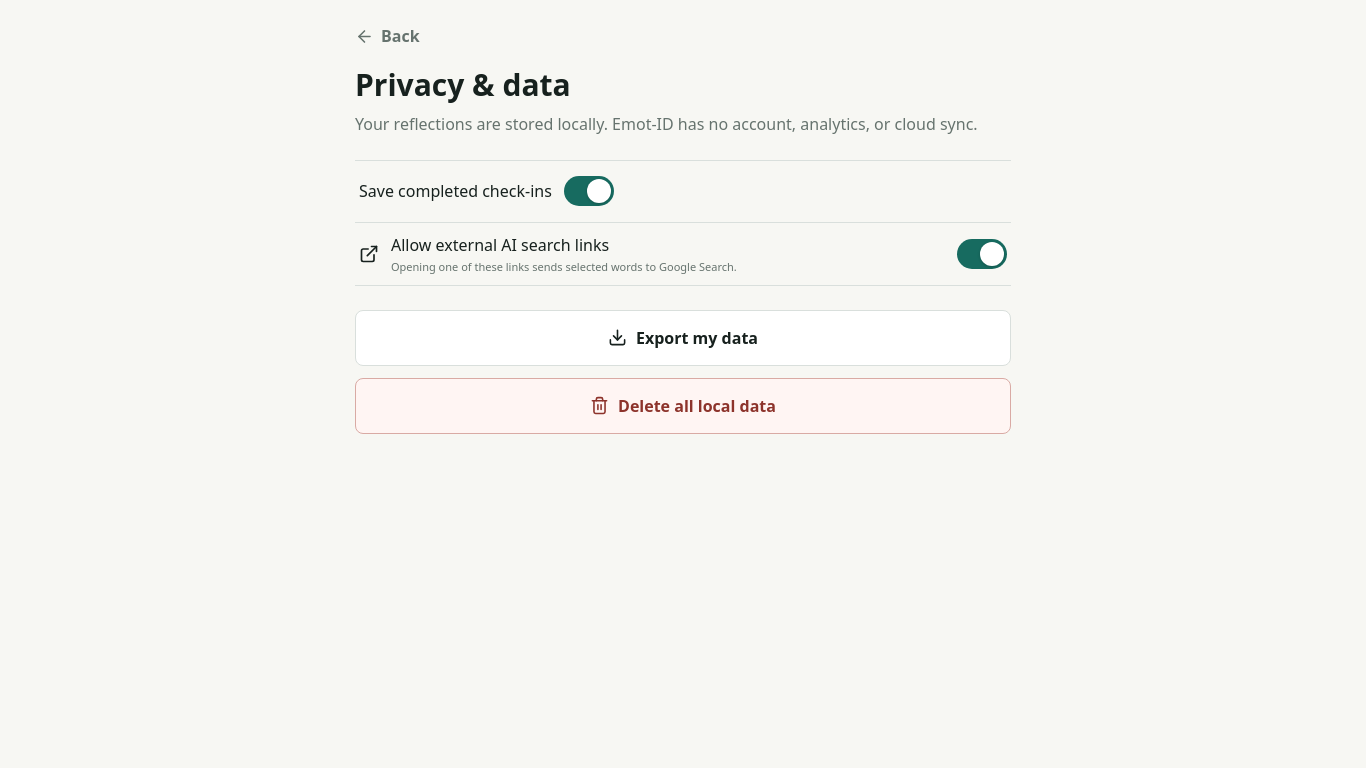
Test: PrivacyDataScreen › closes confirmation with Escape and restores focus
Step 1. Click the button "Delete all local data" → (683, 406), box [355, 378, 1011, 434]
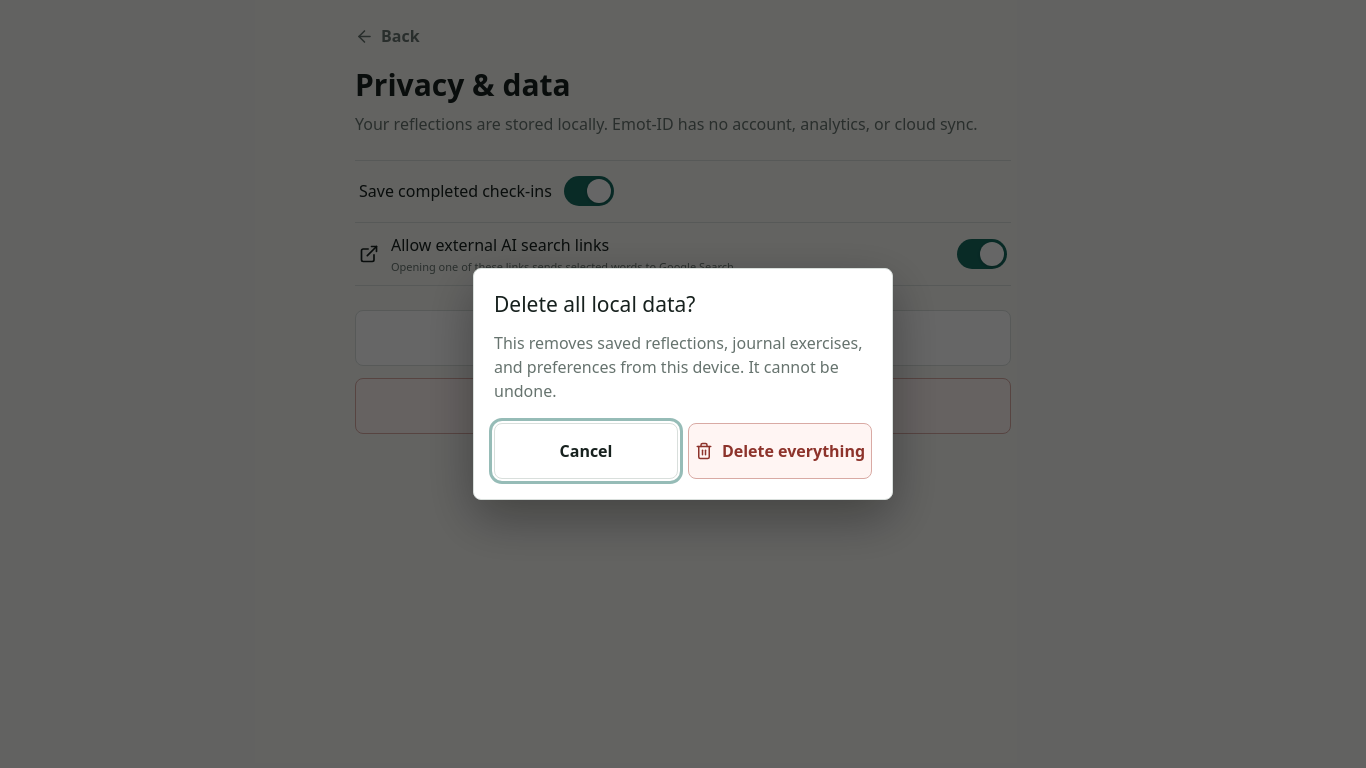
Step 2. Press Escape
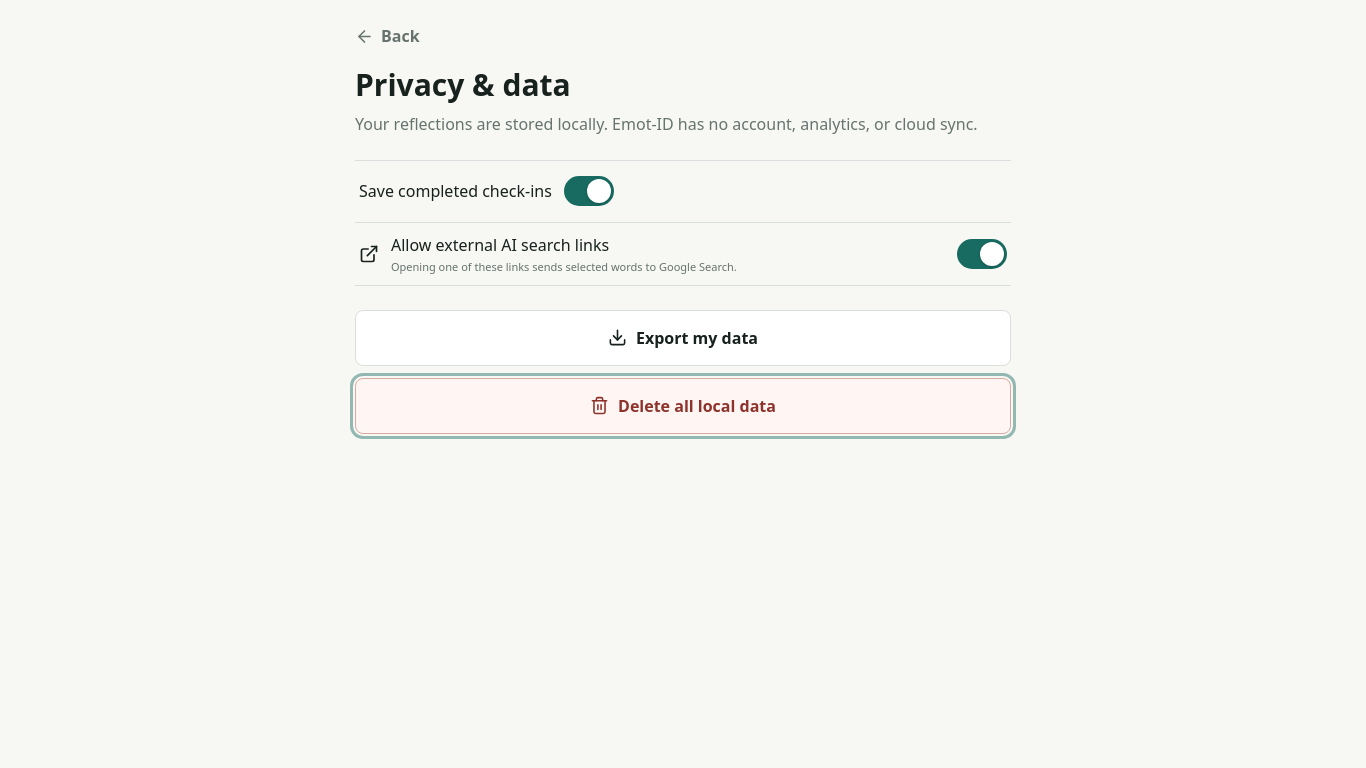
Now the dialog is gone
